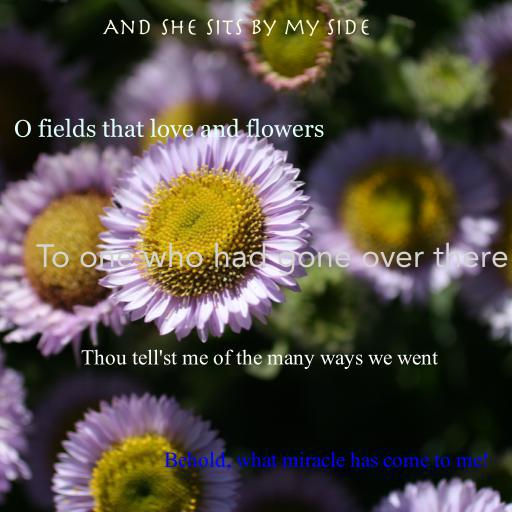Avenir: (35, 242, 509, 275)
Georgia: (14, 118, 324, 138)
Herculanum: (103, 19, 371, 37)
Times New Roman: (80, 349, 438, 370), (163, 451, 489, 471)
